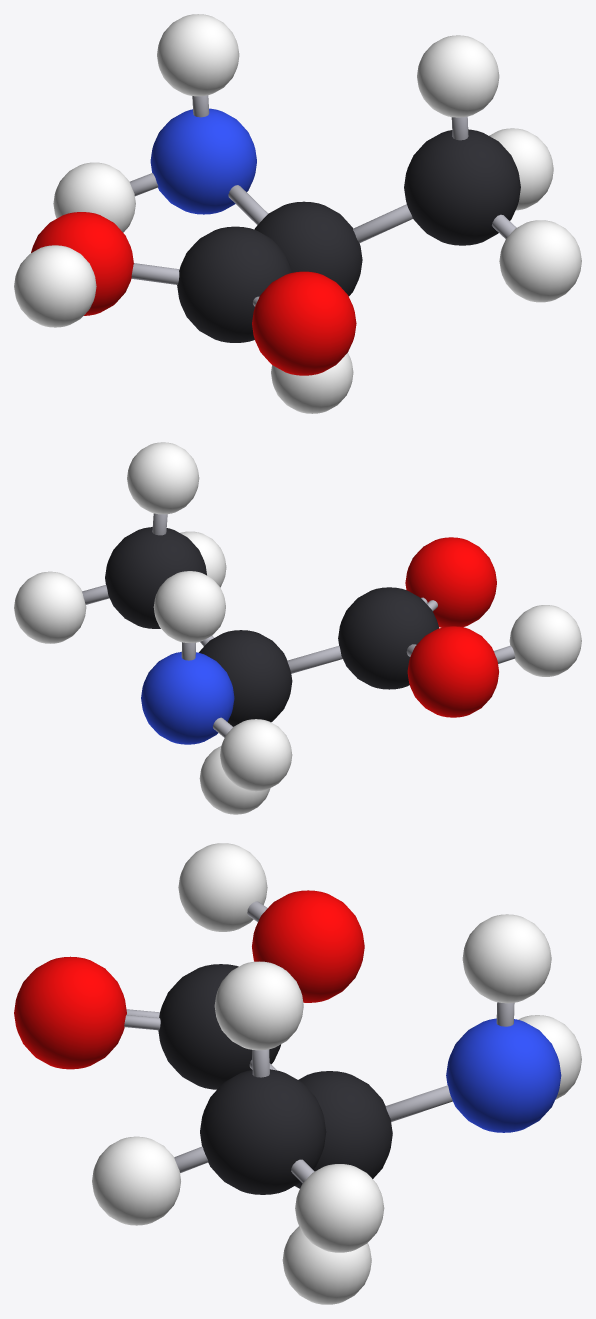
File: alanine.glb
3 renders of one model, top to bottom at view 1: azimuth 30°, elevation 25°; view 2: azimuth 150°, elevation 25°; view 3: azimuth 270°, elevation 25°, orthographic. The views are drawn at different scales.
Visible parts, largest first — view 1: C0, C3, O4, N2, C1, H7, H11, H12, H6, O5, H10, H9 (+4 smaller); view 2: C3, N2, O5, O4, C0, C1, H6, H11, H10, H8, H12, H9 (+2 smaller); view 3: C0, N2, O4, O5, C3, C1, H6, H11, H8, H7, H12, H9 (+2 smaller).
Part boxes in pixels (bbox=[...]): C0: bbox=[404, 129, 520, 245]; C3: bbox=[177, 226, 292, 342]; O4: bbox=[252, 271, 356, 375]; N2: bbox=[150, 108, 256, 214]; C1: bbox=[254, 201, 362, 296]; H7: bbox=[499, 220, 581, 302]; H11: bbox=[157, 14, 239, 96]; H12: bbox=[14, 245, 96, 327]; H6: bbox=[417, 35, 499, 117]; O5: bbox=[31, 212, 133, 315]; H10: bbox=[53, 162, 135, 232]; H9: bbox=[271, 352, 353, 413]; C3: bbox=[338, 587, 438, 689]; N2: bbox=[141, 652, 234, 744]; O5: bbox=[407, 626, 498, 717]; O4: bbox=[405, 537, 496, 627]; C0: bbox=[105, 527, 206, 628]; C1: bbox=[199, 630, 292, 726]; H6: bbox=[127, 442, 199, 514]; H11: bbox=[153, 571, 225, 642]; H10: bbox=[220, 719, 292, 791]; H8: bbox=[14, 571, 86, 643]; H12: bbox=[509, 605, 581, 676]; H9: bbox=[199, 746, 270, 814]; C0: bbox=[200, 1069, 326, 1194]; N2: bbox=[446, 1018, 561, 1132]; O4: bbox=[14, 956, 126, 1069]; O5: bbox=[252, 890, 364, 1002]; C3: bbox=[158, 964, 280, 1089]; C1: bbox=[295, 1071, 392, 1188]; H6: bbox=[214, 961, 303, 1050]; H11: bbox=[462, 914, 551, 1003]; H8: bbox=[295, 1164, 384, 1252]; H7: bbox=[92, 1136, 180, 1225]; H12: bbox=[178, 843, 267, 931]; H9: bbox=[282, 1226, 371, 1304].
Size of the model in its own units: 5.87 by 3.52 by 4.58.
